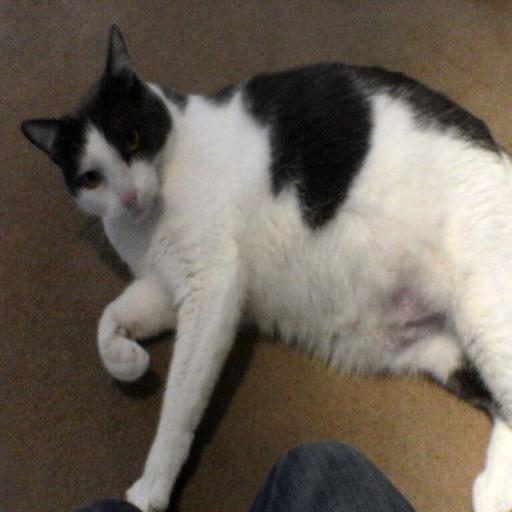cat: (19, 23, 512, 512)
